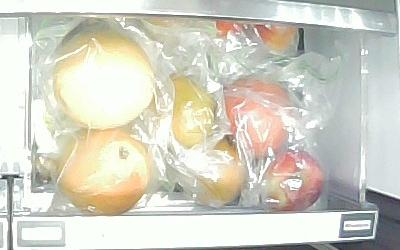apple_vinyl: (216, 79, 297, 157), (255, 147, 327, 214)
grapefruit_vinyl: (51, 29, 156, 129), (55, 128, 152, 216)
persimmon_vinyl: (162, 74, 221, 148), (189, 138, 247, 206)
prune_vinyl: (252, 21, 300, 55)
